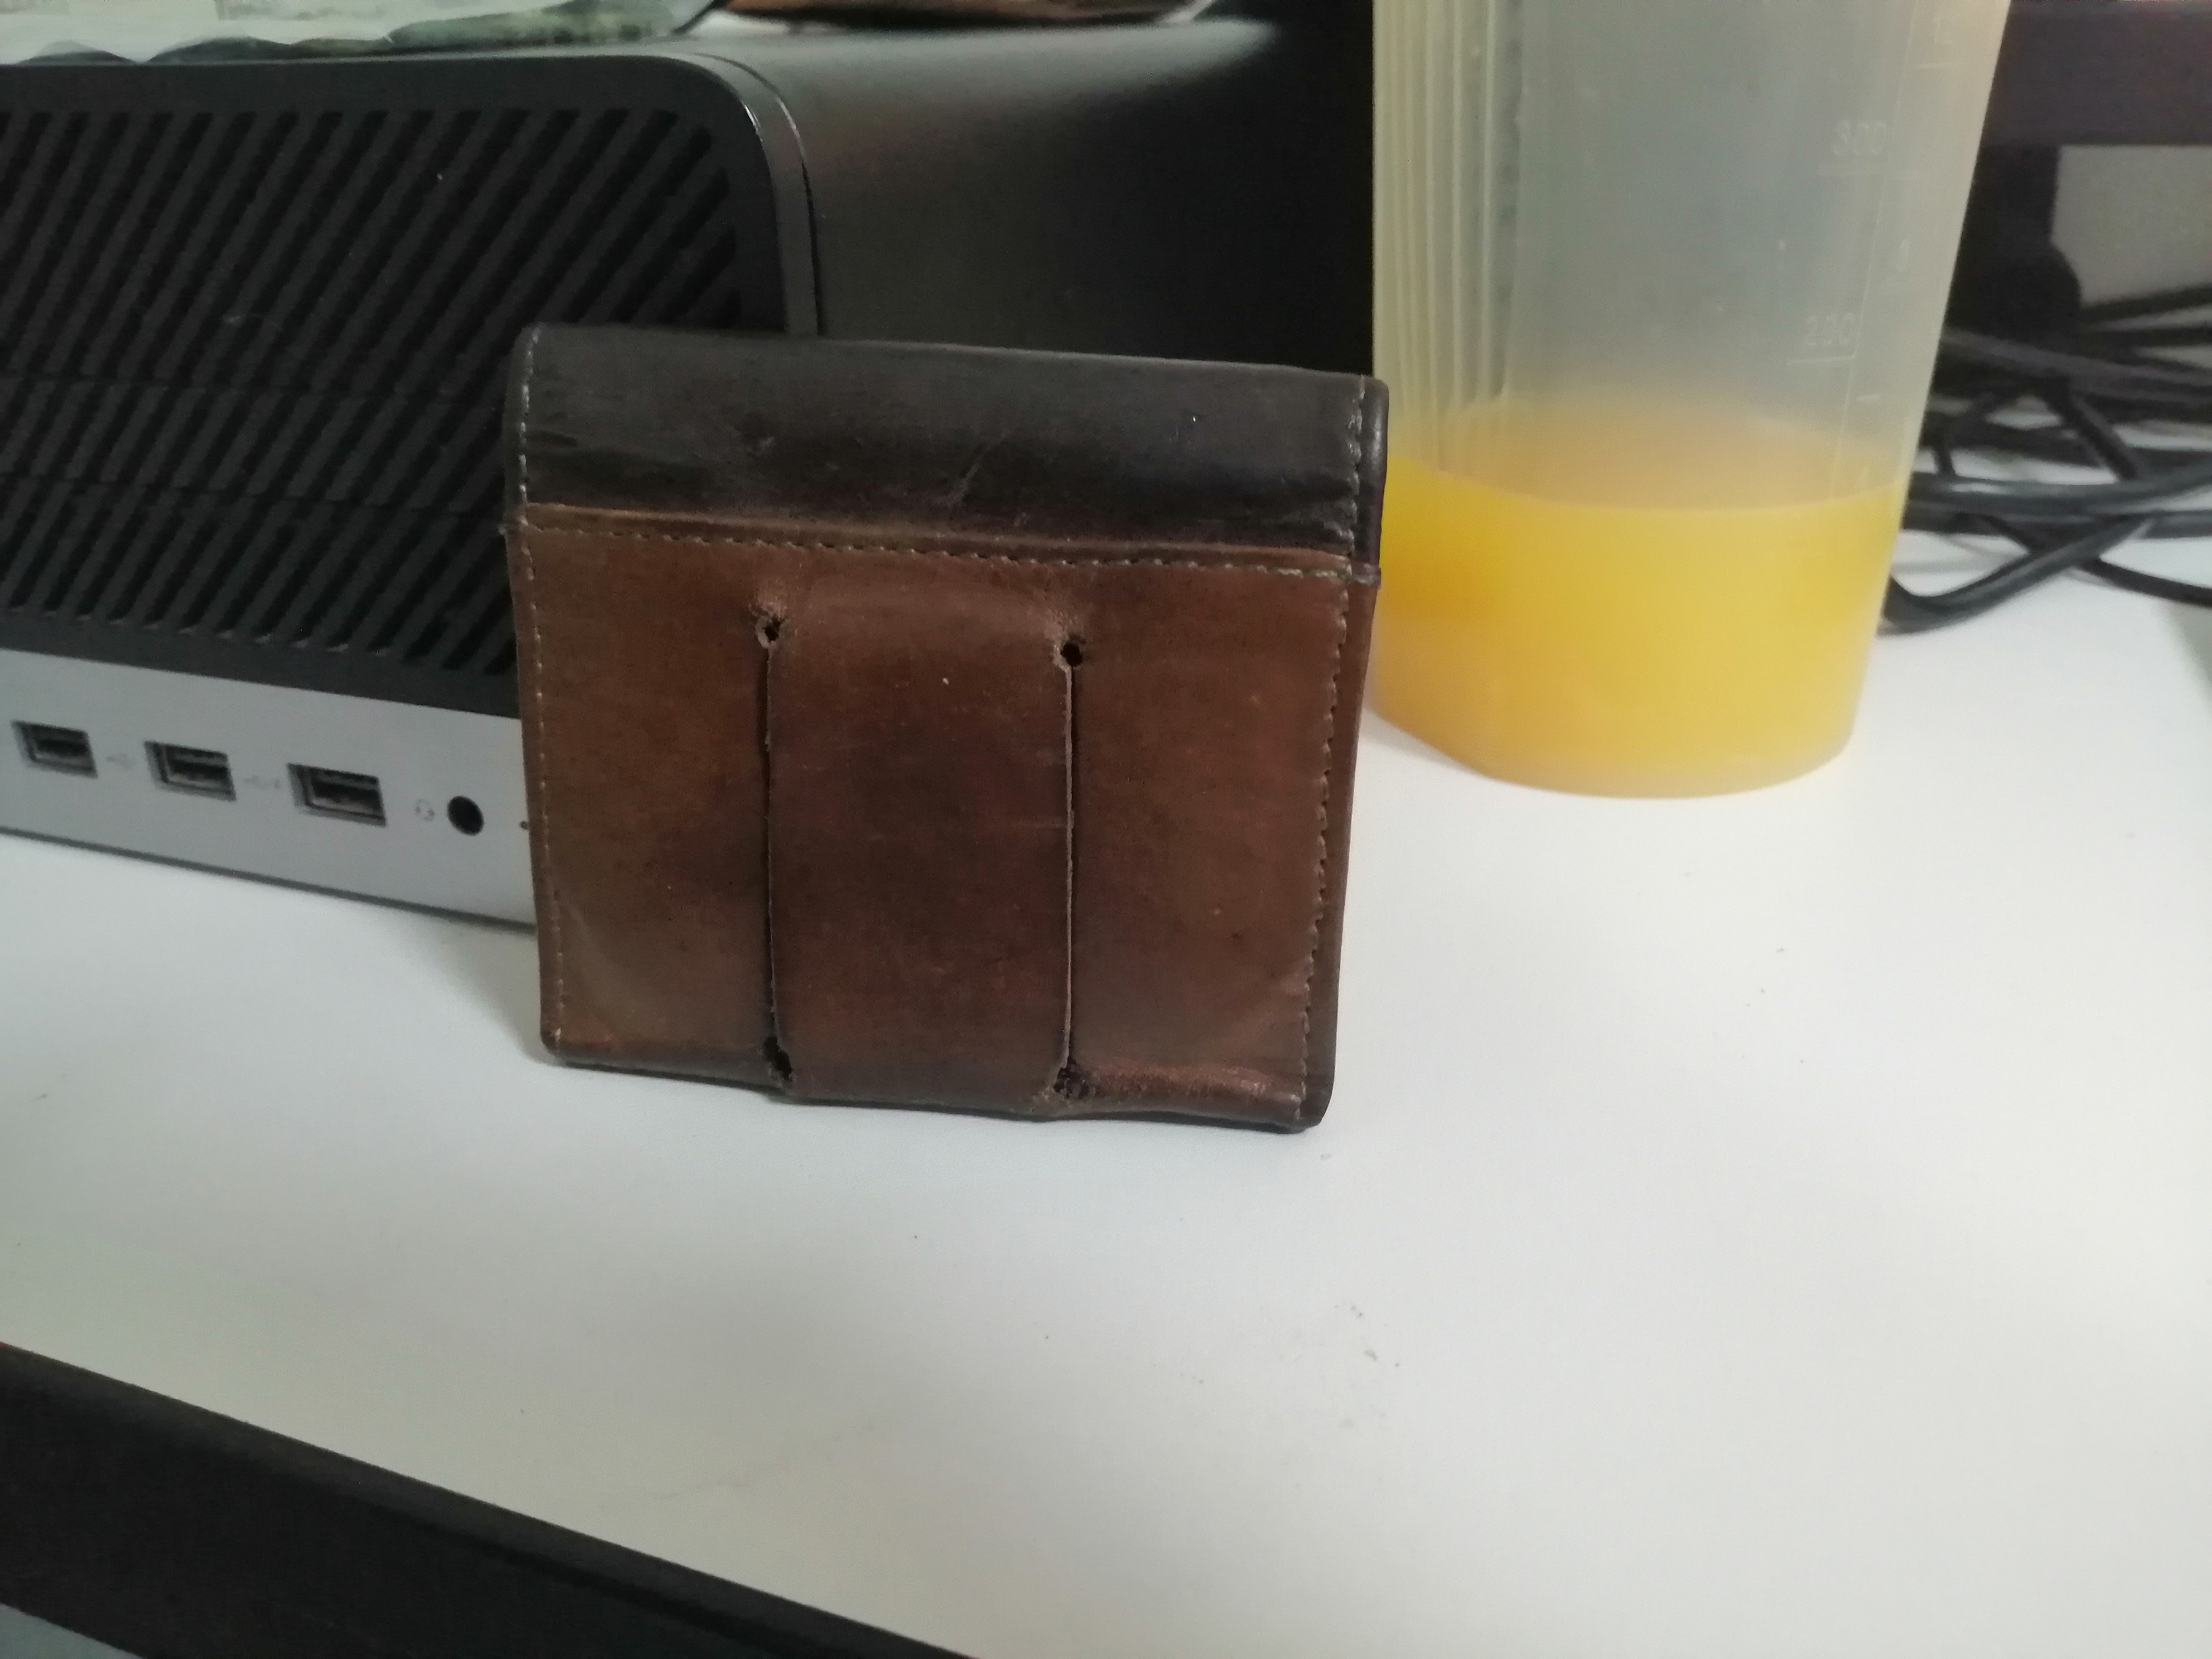monedero: (458, 305, 1420, 1154)
